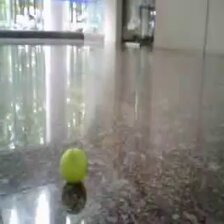tennis: (61, 148, 86, 181)
